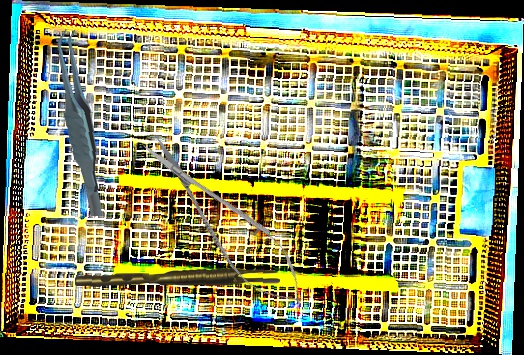Micro Scissor: (128, 121, 321, 321)
Tissue Forceps: (48, 28, 113, 217), (74, 265, 281, 290)
